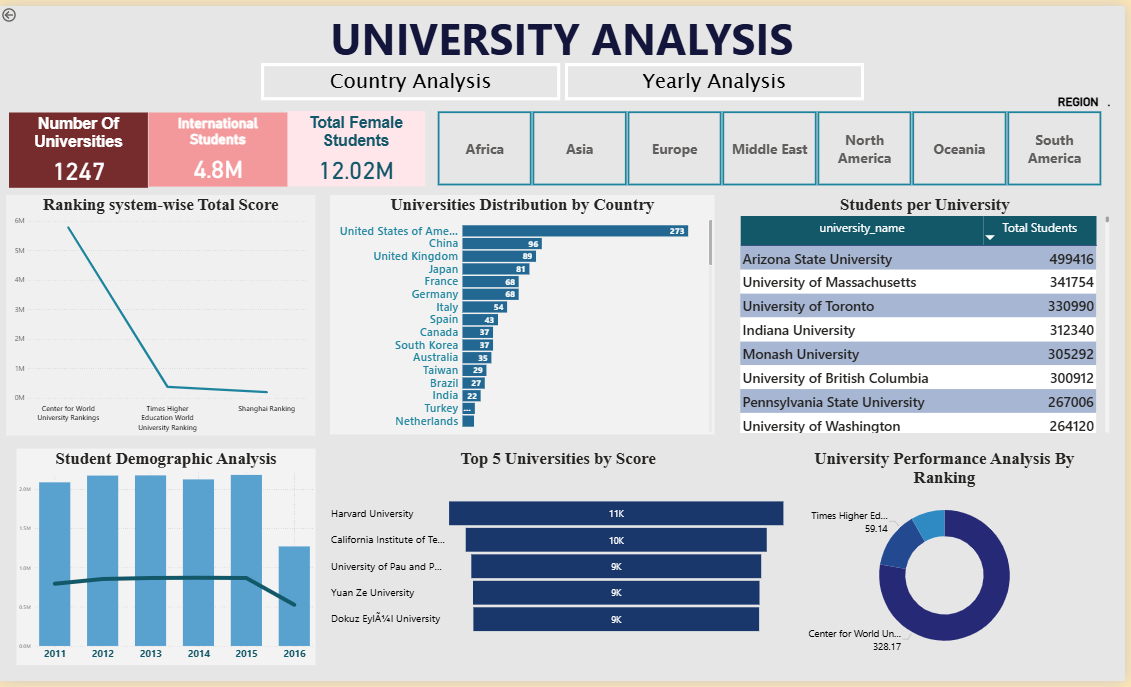

What the dashboard file says about the page in this screenshot:
{"tool":"powerbi","page":{"name":"University Analysis","canvas":[2500,1500],"ordinal":1},"visuals":[{"type":"tableEx","title":"Students per University","fields":{"Values":["university.university_name","university_year.Total Students"]},"box":[1640,420,830,533.3],"z":0},{"type":"donutChart","title":"University Performance Analysis By Ranking","fields":{"Category":["ranking_system.system_name"],"Y":["Avg(university_ranking_year.score)"]},"box":[1787.5,984.8,623.7,480.4],"z":1000},{"type":"lineStackedColumnComboChart","title":"Student Demographic Analysis","fields":{"Category":["university_year.year"],"Y":["Sum(university_year.Total_female_student)"],"Y2":["Sum(university_year.Total_Int_Student)"]},"box":[20,983.8,681.2,481.2],"z":2000},{"type":"textbox","box":[711.5,0,1077,165.7],"z":3000},{"type":"pageNavigator","box":[580,126.7,1340,83.3],"z":4000},{"type":"slicer","title":"REGION   .","fields":{"Values":["region.region_name"]},"box":[946,197,1524.9,208.9],"z":5000},{"type":"clusteredBarChart","title":"Universities Distribution by Country","fields":{"Category":["country.country_name"],"Y":["CountNonNull(university.university_name)"]},"box":[732.4,420.4,854.4,532.3],"z":6000},{"type":"card","title":"Number Of Universities","fields":{"Values":["university_year.Total Universities"]},"box":[20.6,237.9,308.4,167.4],"z":7000},{"type":"card","title":"Total Female Students","fields":{"Values":["Sum(university_year.Total_female_student)"]},"box":[637.4,235,308.4,167.4],"z":8000},{"type":"funnel","title":"Top 5 Universities by Score","fields":{"Category":["university.university_name"],"Y":["Sum(university_ranking_year.score)"]},"box":[731.1,984.8,1020.6,480.4],"z":9000},{"type":"card","title":"International Students","fields":{"Values":["Sum(university_year.Total_Int_Student)"]},"box":[329,237.9,308.4,164.5],"z":10000},{"type":"lineChart","title":"Ranking system-wise Total Score","fields":{"Category":["ranking_system.system_name"],"Y":["Sum(university_ranking_year.score)"]},"box":[14.7,420,687.4,534.6],"z":11000},{"type":"actionButton","box":[0,0,100,40],"z":12000}]}

Visuals, with their boxes in screenshot pixels (x1, y1, x2, y2), scaled from the page's 2500x1500 canvas onto the 1131x687 screenshot:
"Students per University" tableEx: x1=742 y1=192 x2=1117 y2=437
"University Performance Analysis By Ranking" donutChart: x1=809 y1=451 x2=1091 y2=671
"Student Demographic Analysis" lineStackedColumnComboChart: x1=9 y1=451 x2=317 y2=671
textbox: x1=322 y1=0 x2=809 y2=76
pageNavigator: x1=262 y1=58 x2=869 y2=96
"REGION   ." slicer: x1=428 y1=90 x2=1118 y2=186
"Universities Distribution by Country" clusteredBarChart: x1=331 y1=193 x2=718 y2=436
"Number Of Universities" card: x1=9 y1=109 x2=149 y2=186
"Total Female Students" card: x1=288 y1=108 x2=428 y2=184
"Top 5 Universities by Score" funnel: x1=331 y1=451 x2=792 y2=671
"International Students" card: x1=149 y1=109 x2=288 y2=184
"Ranking system-wise Total Score" lineChart: x1=7 y1=192 x2=318 y2=437
actionButton: x1=0 y1=0 x2=45 y2=18
